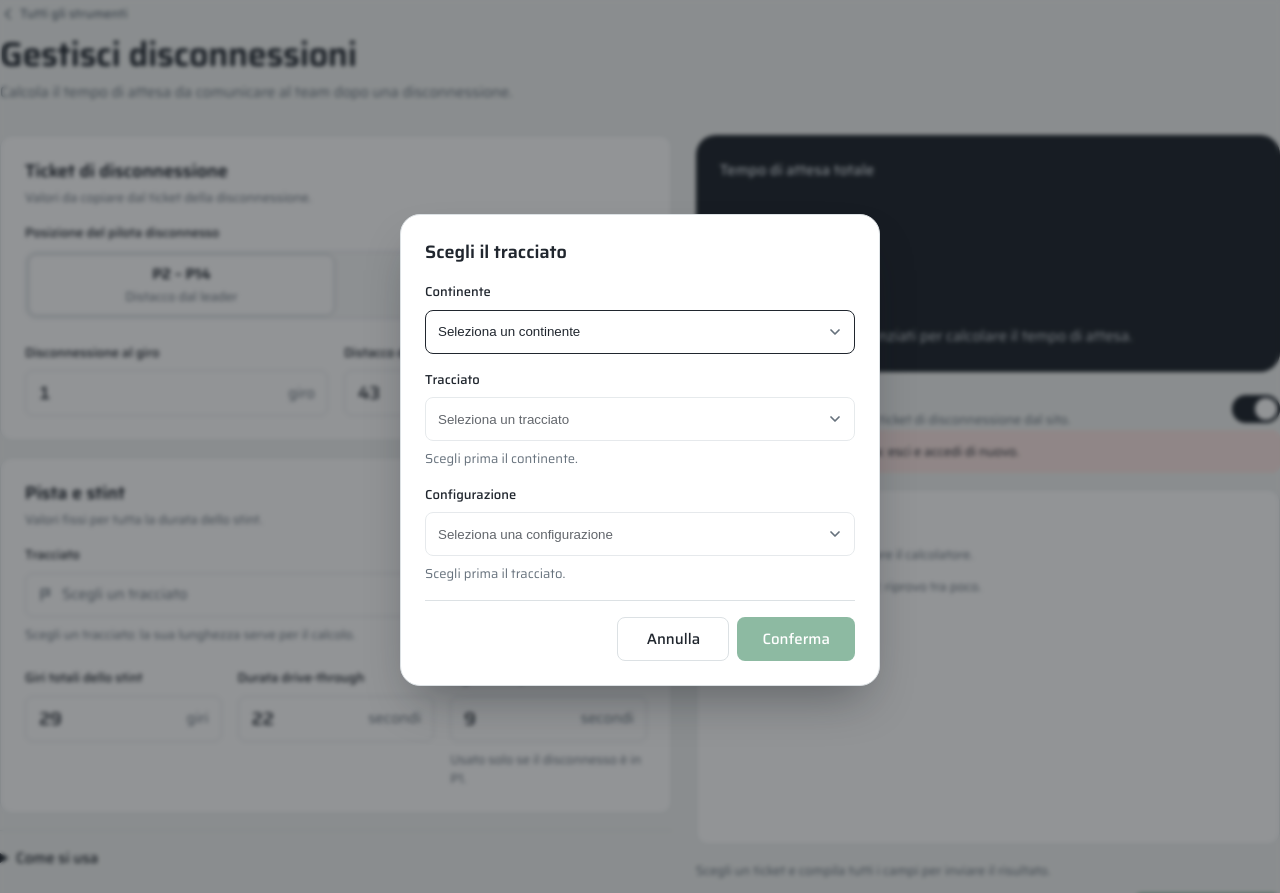
it: <FieDisconnectionsCalculator /> › non mostra attese negative quando il distacco copre la penalità
Earlier steps of the test are not shown.
Select "Asia" in the dropdown labelled "Continente" at (640, 332), box [425,310,855,354]
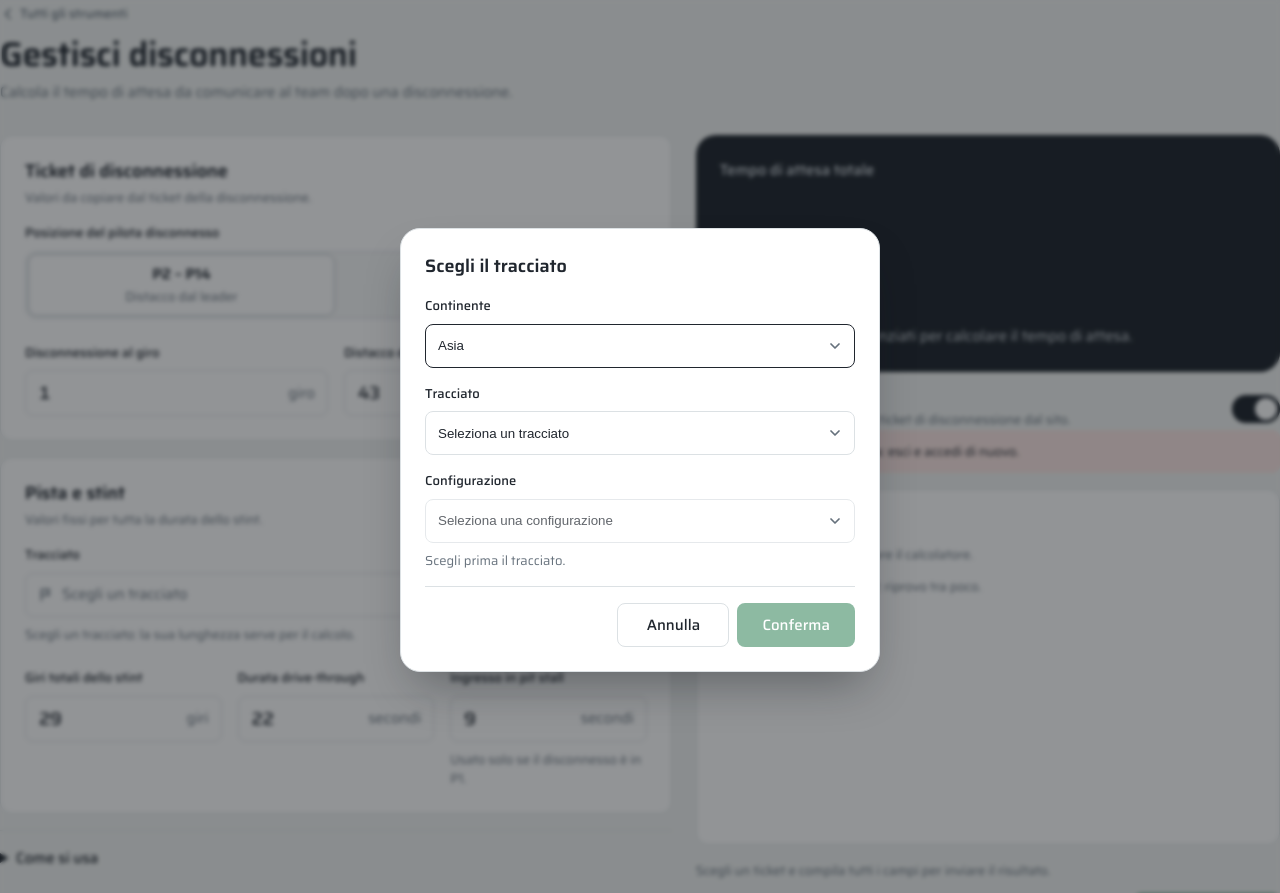
Select "Suzuka Circuit" in the dropdown labelled "Tracciato" at (640, 433), box [425,411,855,455]
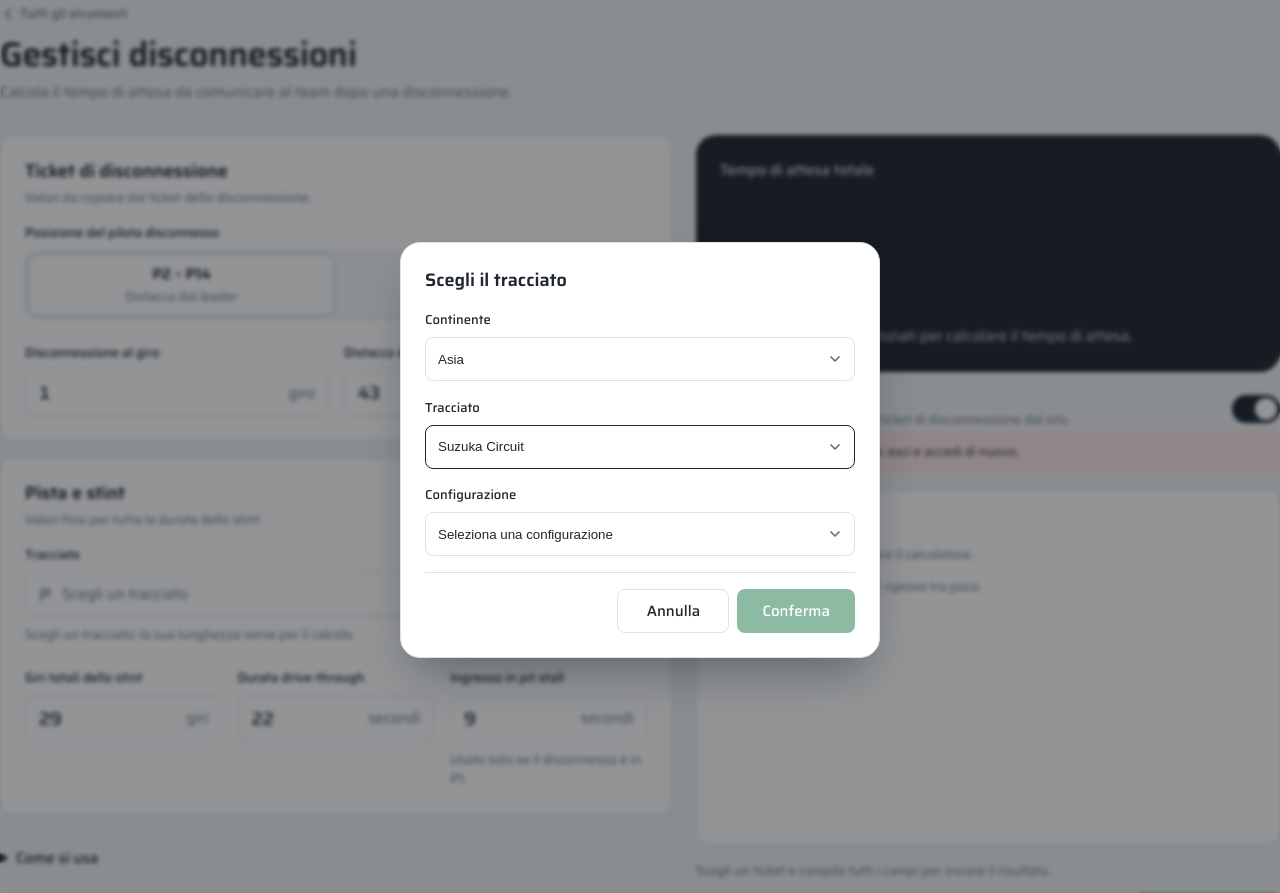
Select "Completo" in the dropdown labelled "Configurazione" at (640, 534), box [425,512,855,556]
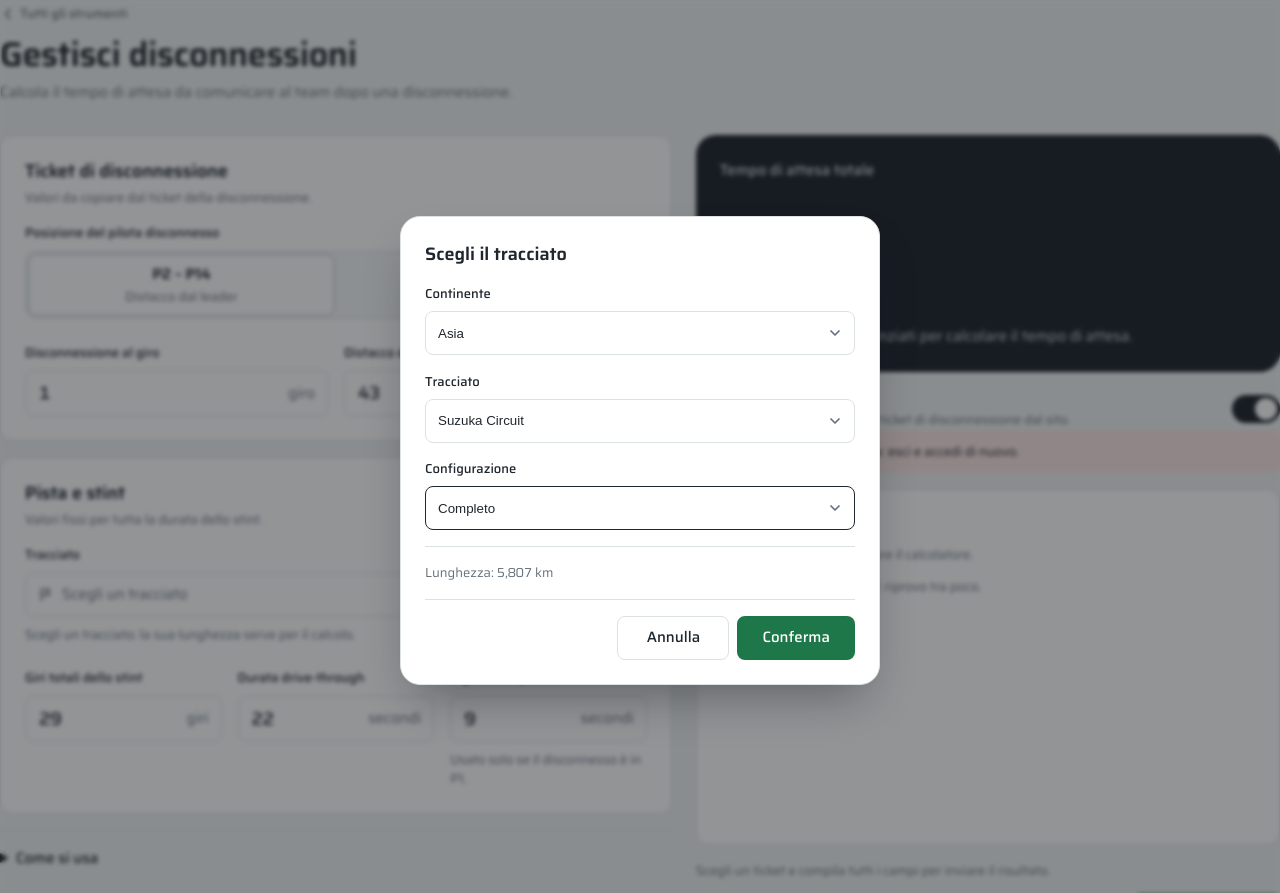
Click the button "Conferma".
click(796, 638)  # box [737,616,855,660]
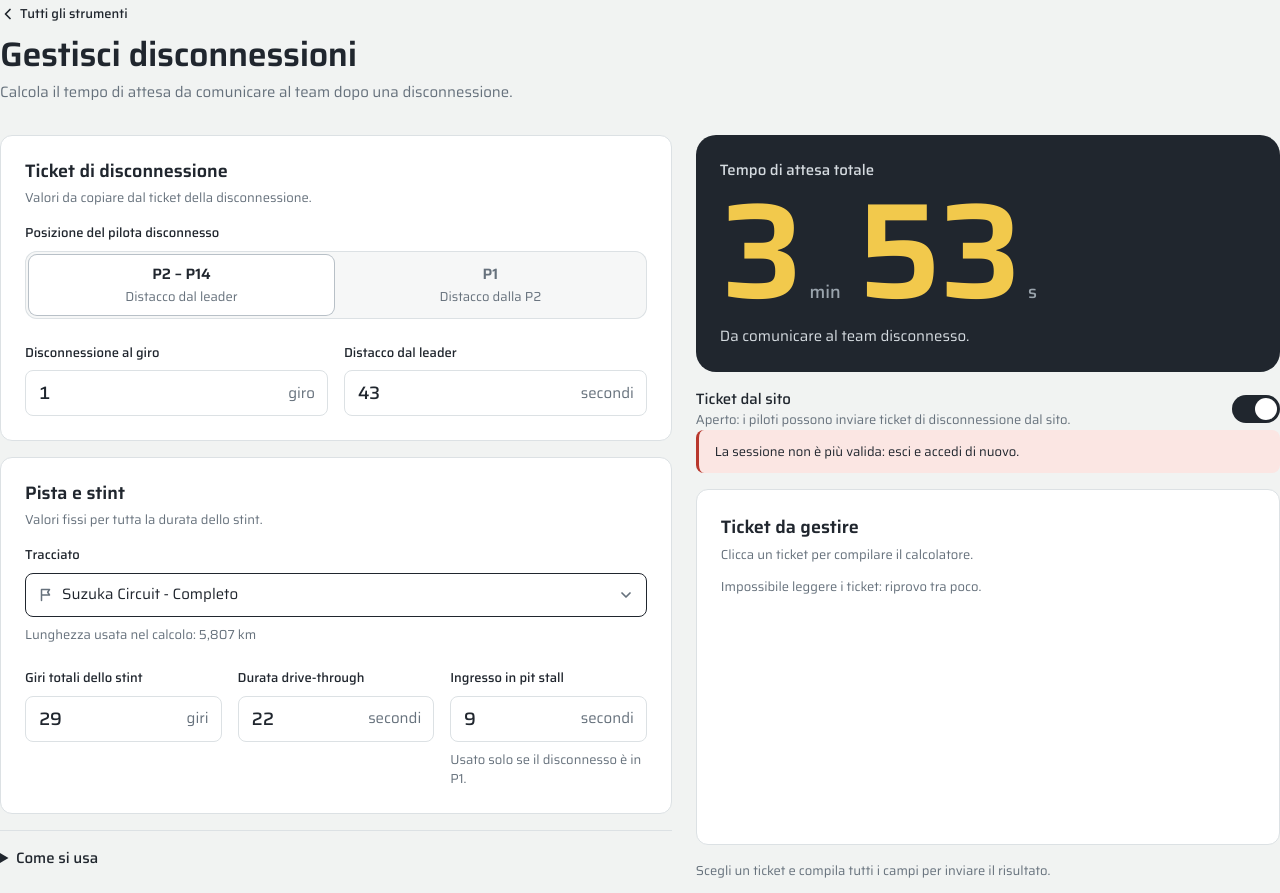
Click the radio button labelled "P1 Distacco dalla P2".
click(490, 285)  # box [440,262,541,307]
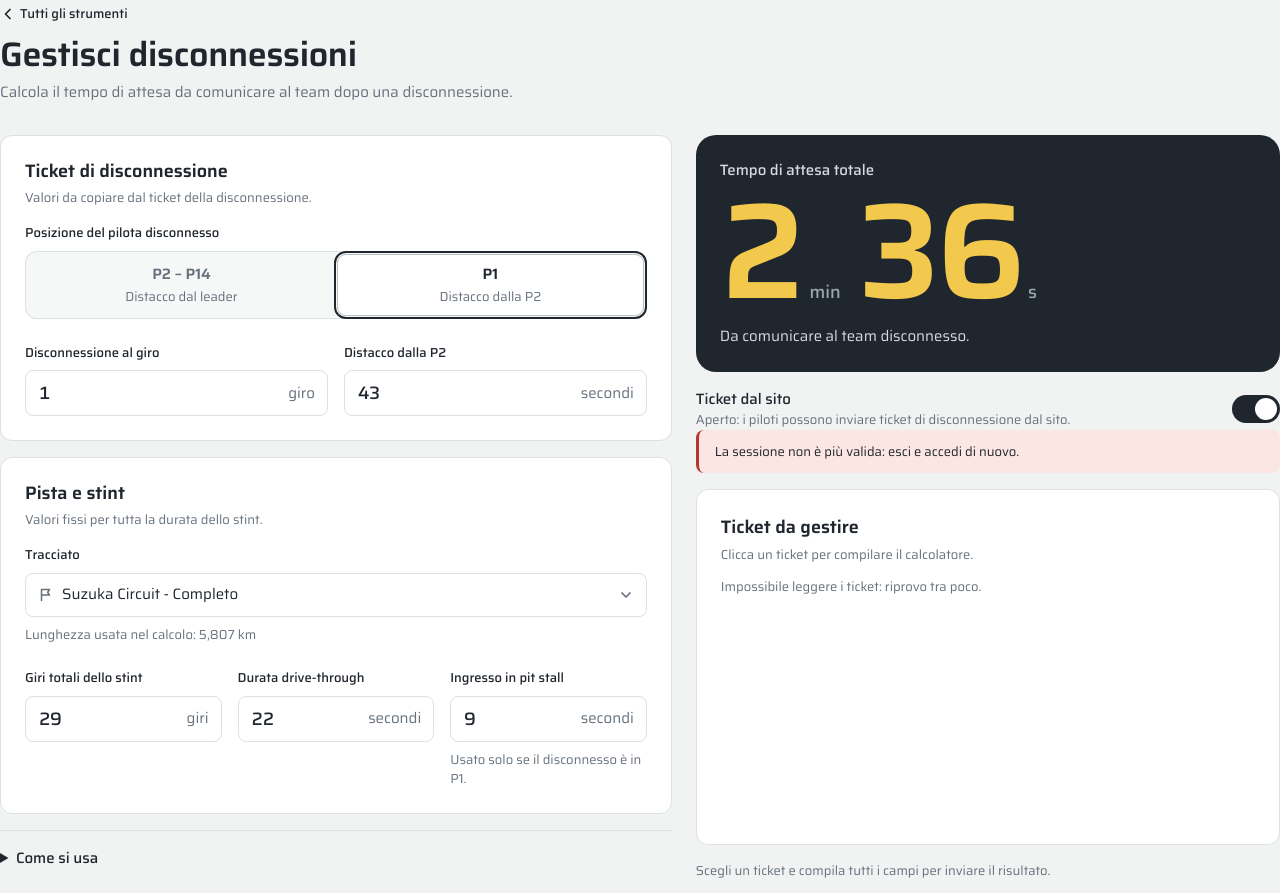
Replace the text in the number field labelled "Distacco dalla P2" with "600" at (463, 393), box [345,371,581,415]
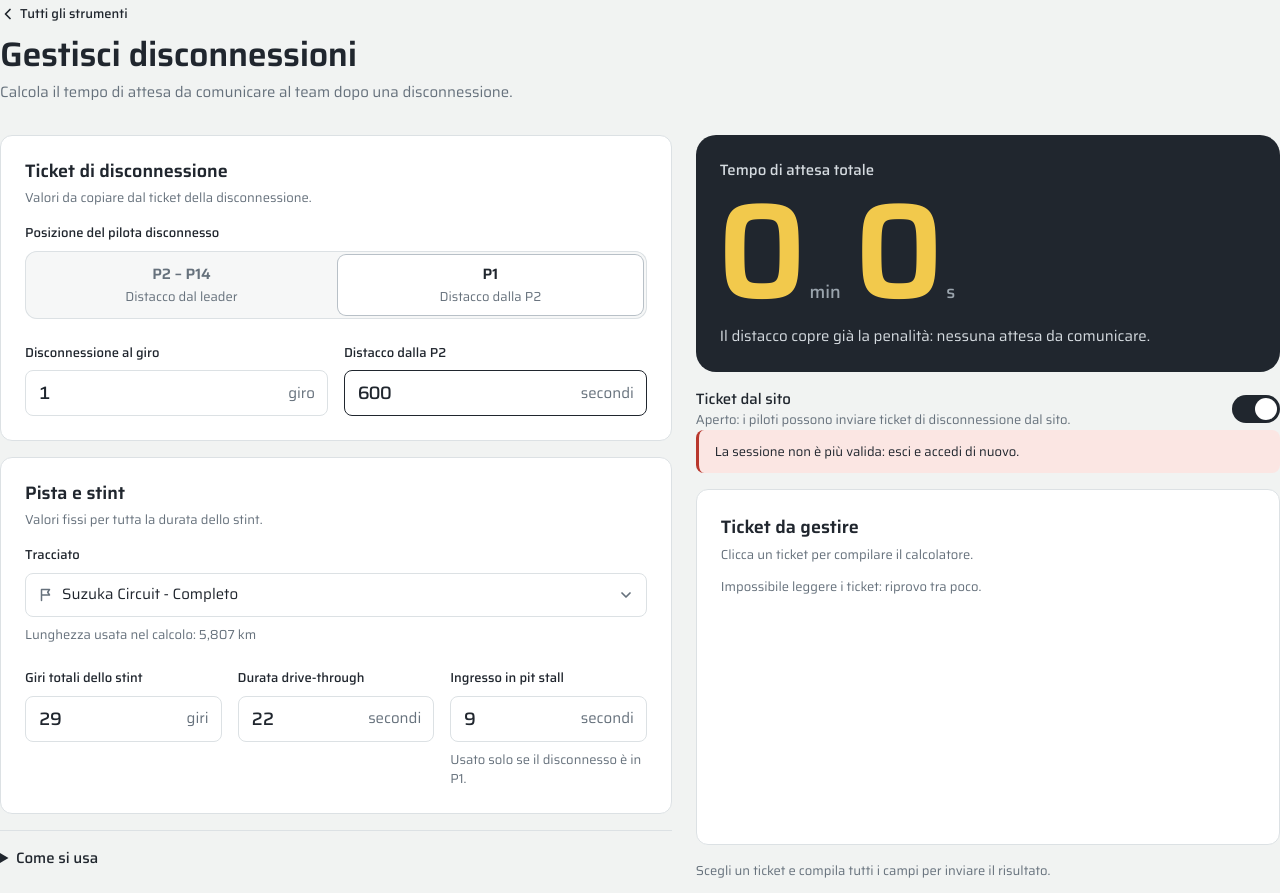
Expected: the element named "Tempo di attesa totale" reads "0 min 0 s", [720,144,955,358]
Expected: the text "nessuna attesa" is shown, [720,324,1150,348]
